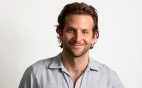male: (56, 2, 102, 61)
